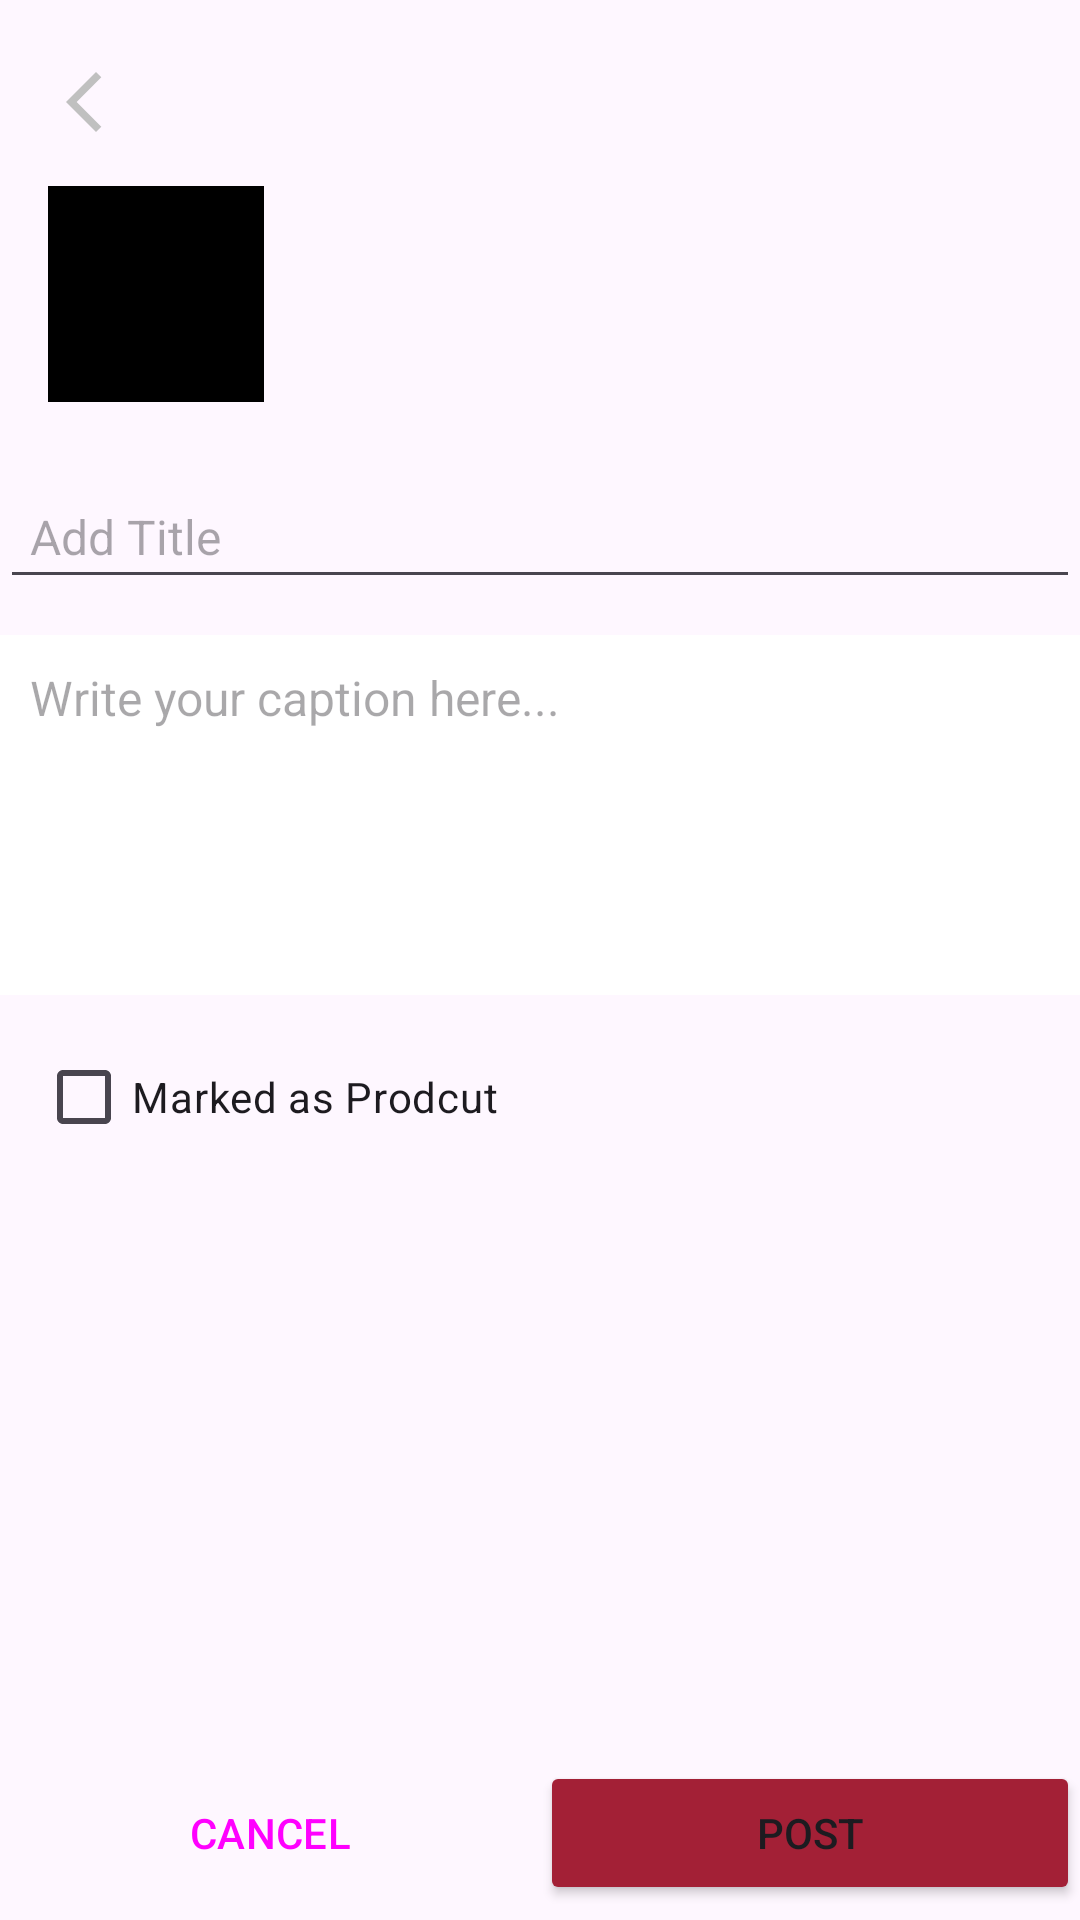

Icons on this 1080px x 1920px Android screen, each with its box as box=[x1, y1, x2, y2]:
Back: box=[66, 72, 101, 132]
